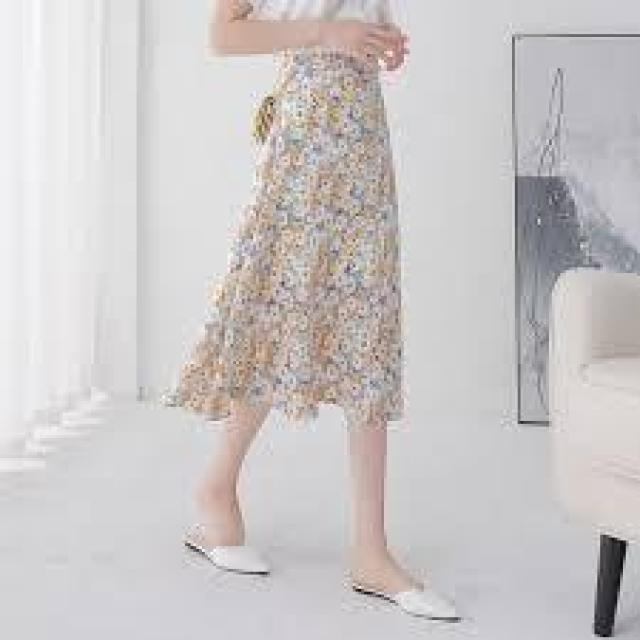skirt: (173, 34, 450, 418)
